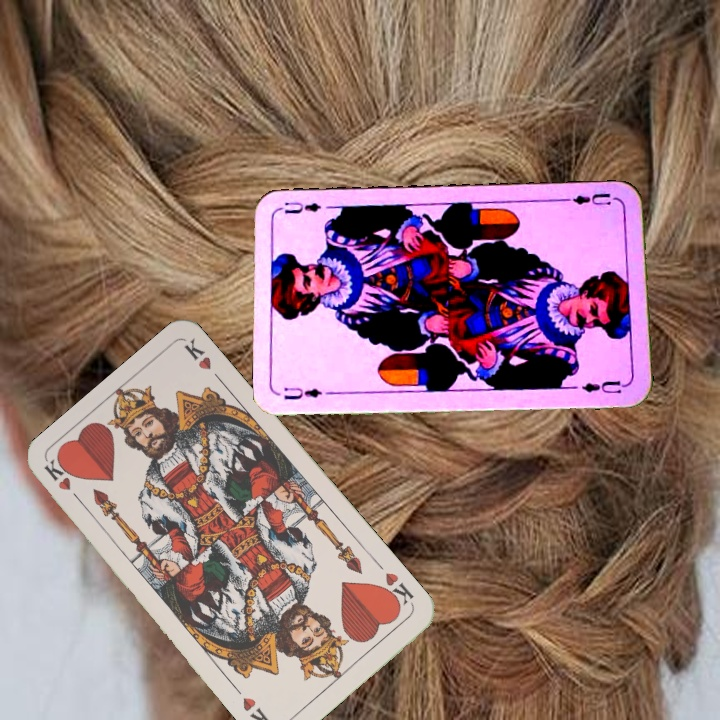EU: (280, 383, 325, 404), (569, 187, 613, 208)
HK: (40, 456, 87, 508), (376, 568, 416, 612)
